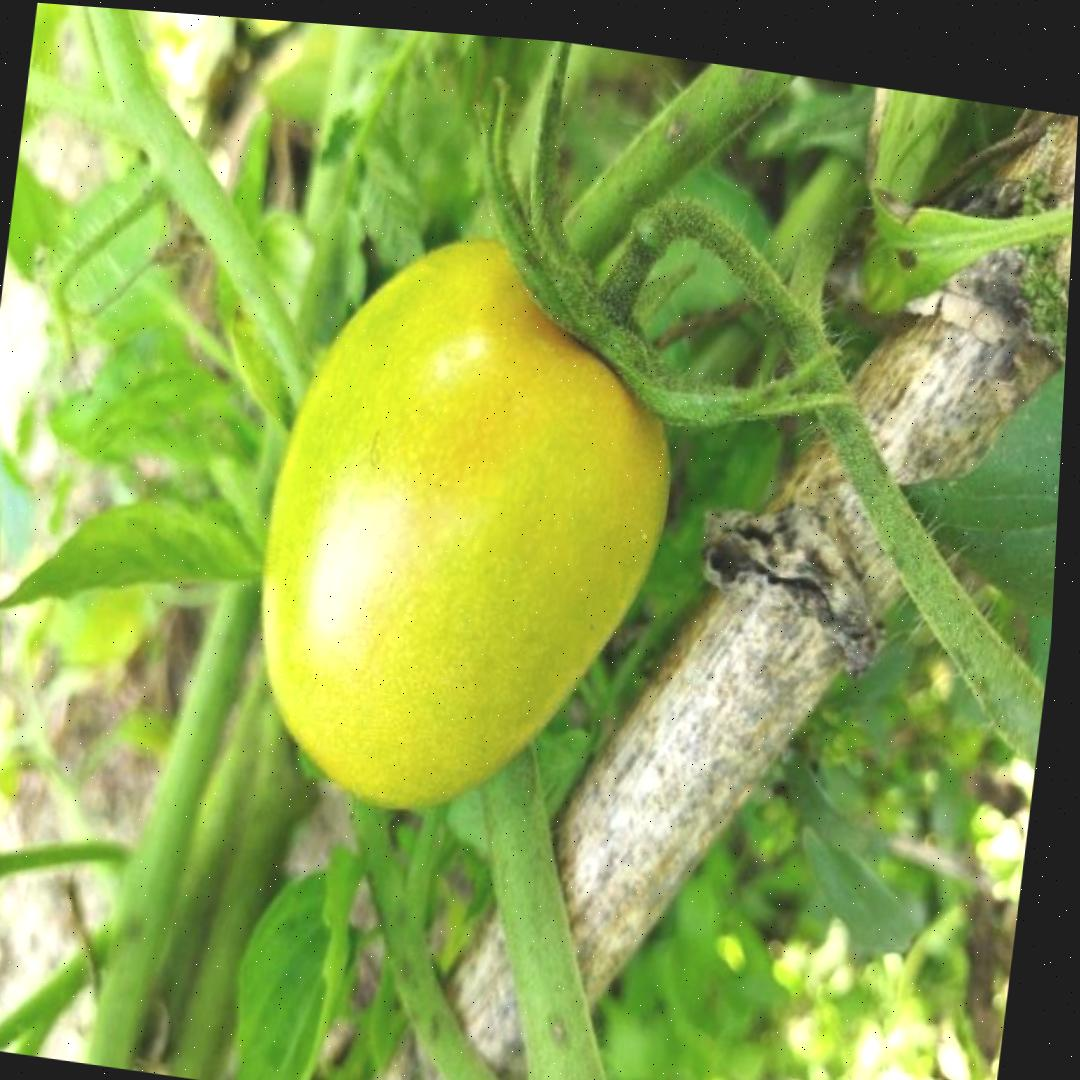setengah_matang: (229, 201, 707, 852)
